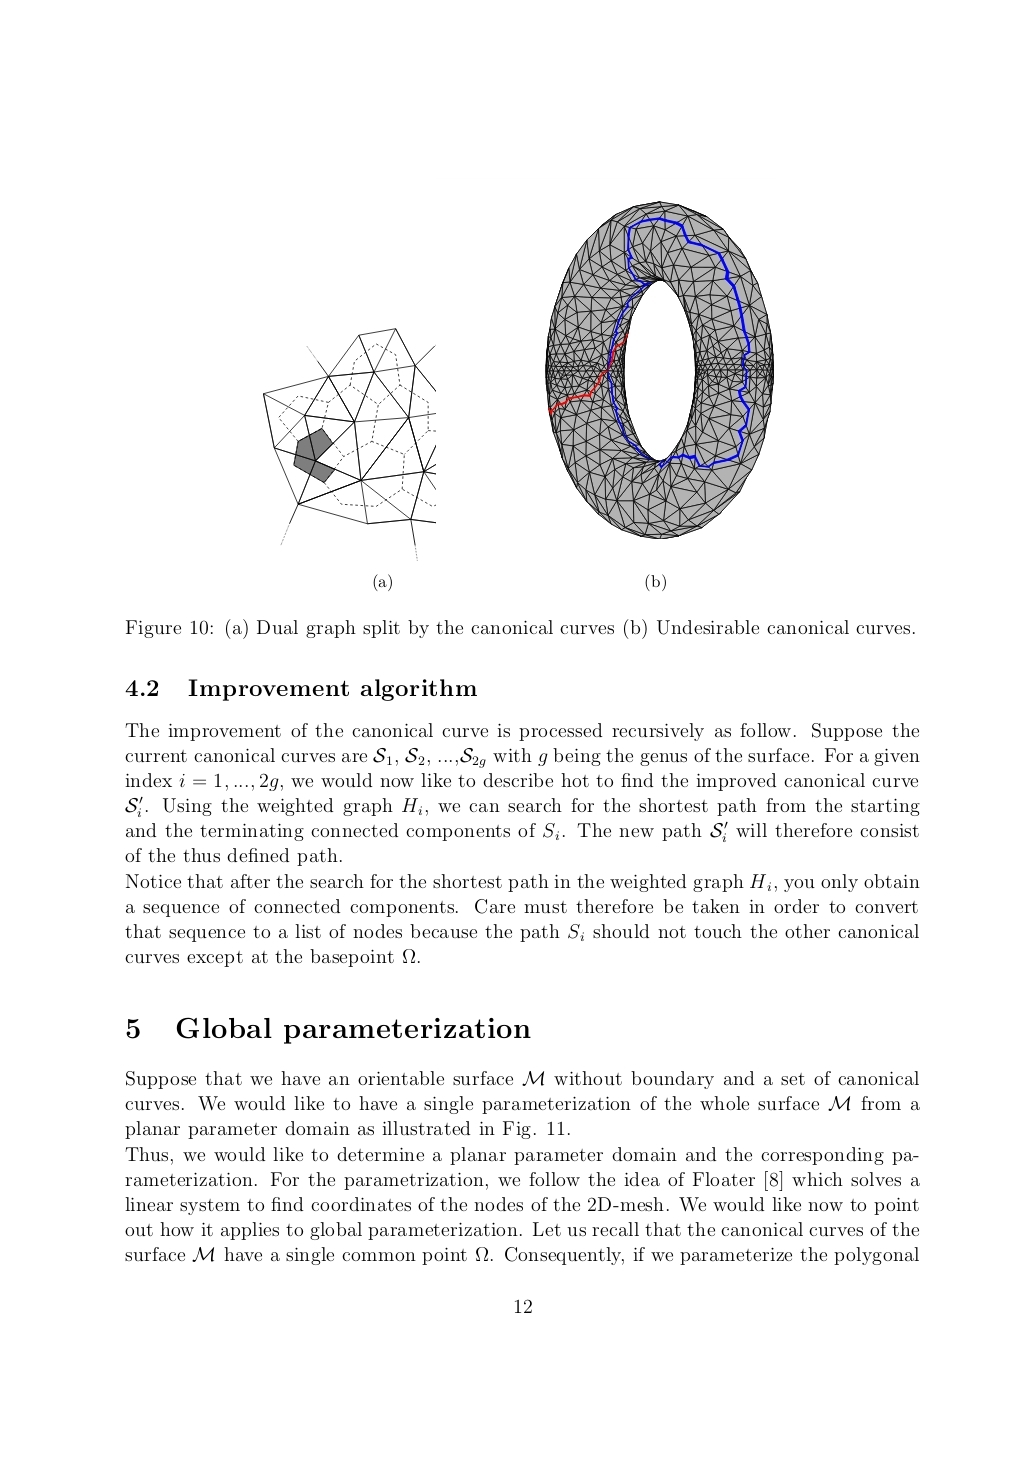figure: (545, 200, 773, 539), (263, 327, 435, 561)
